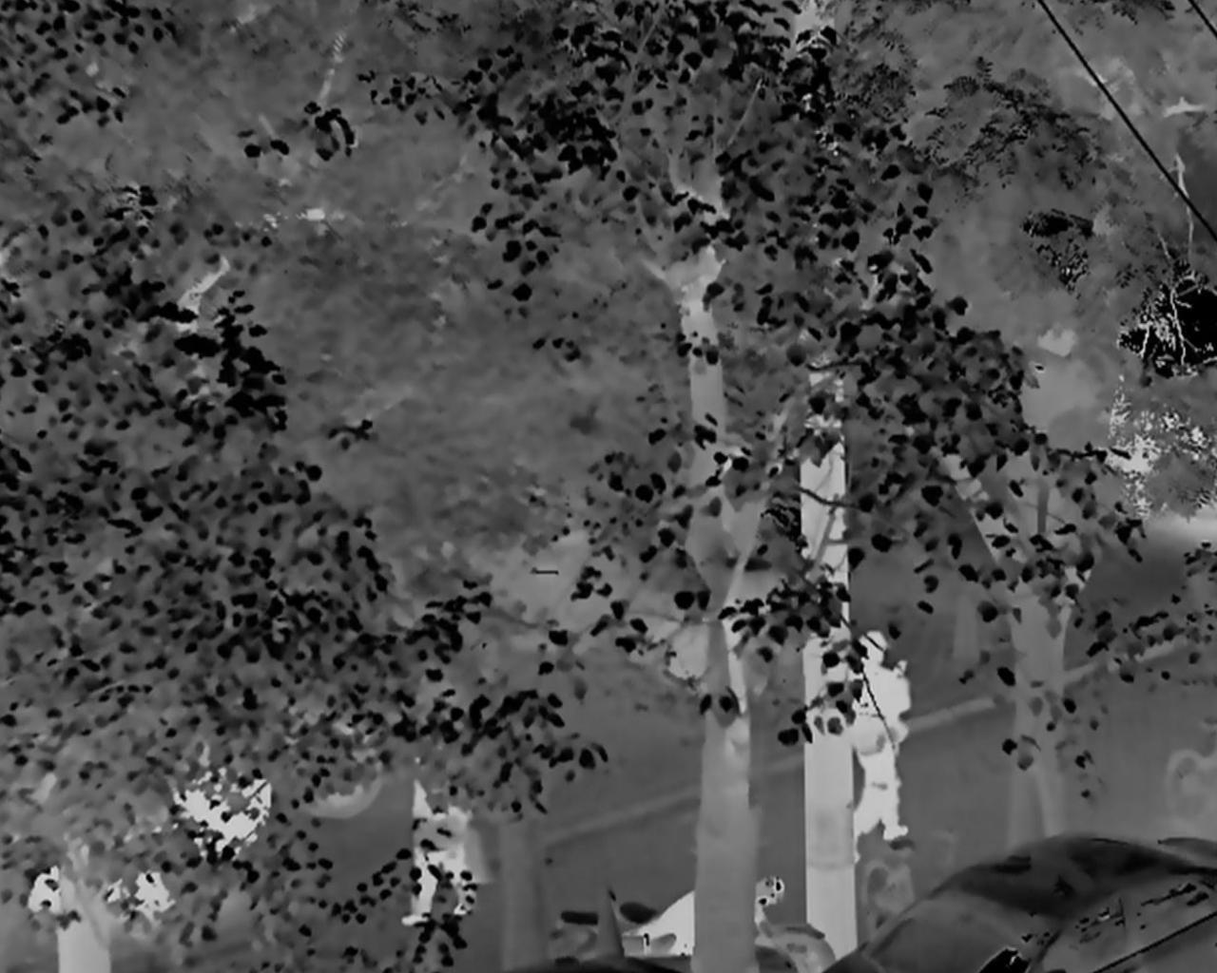person: (848, 628, 913, 862), (399, 750, 479, 925)
